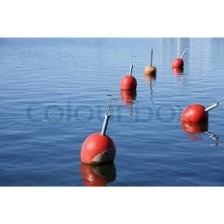buoy: (81, 133, 116, 166), (181, 105, 207, 127), (121, 75, 138, 94), (172, 57, 185, 73), (144, 65, 156, 76)
